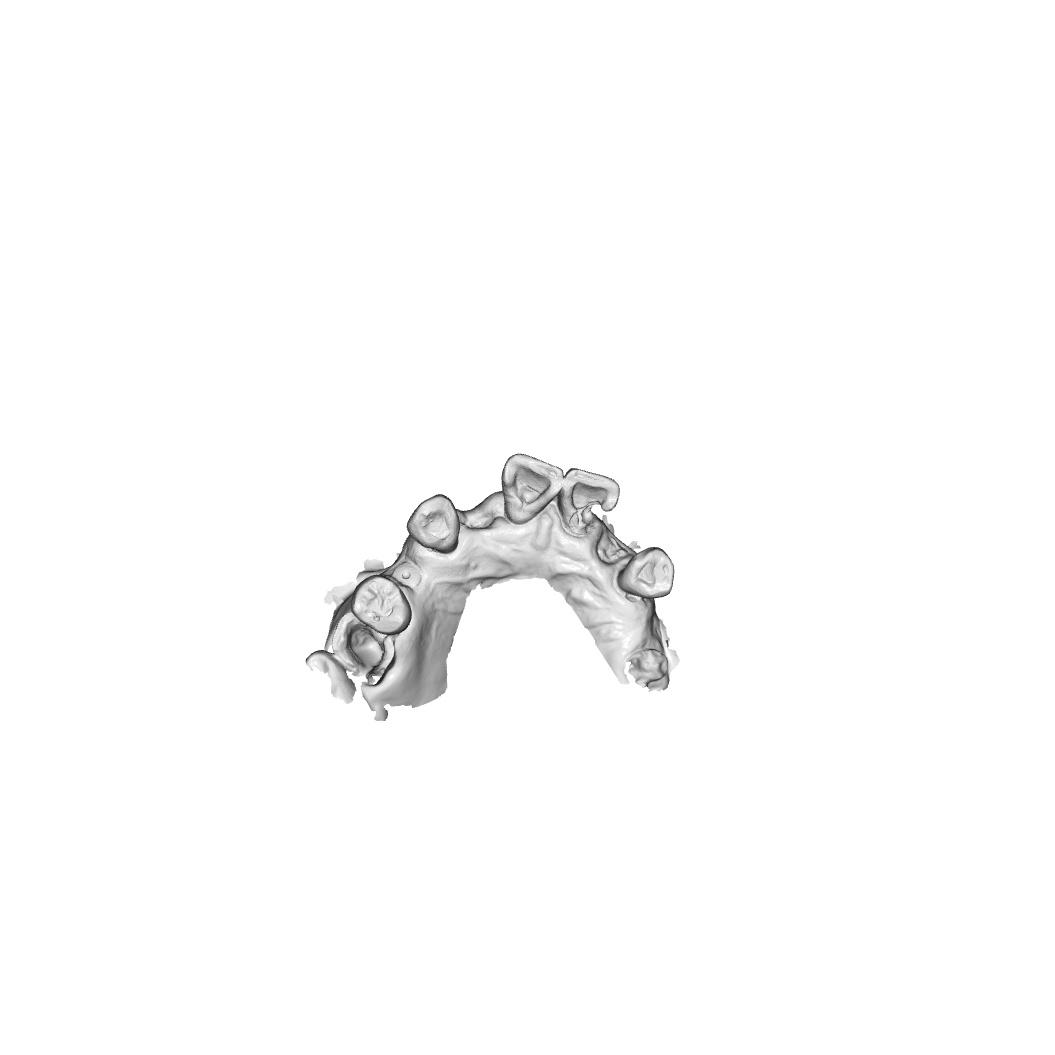canine: (406, 493, 462, 555), (616, 546, 676, 599)
implant: (391, 562, 422, 589)
incisor: (500, 452, 565, 526), (557, 466, 621, 538)
premolar: (349, 575, 415, 635)
